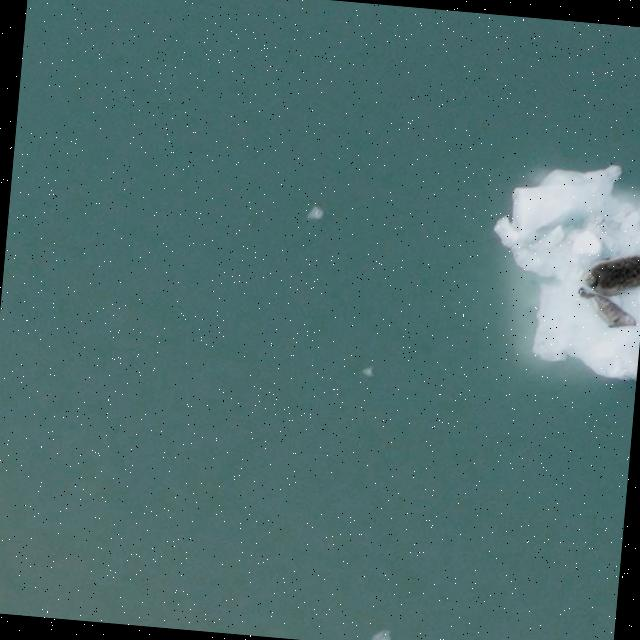seal: (572, 281, 639, 339)
